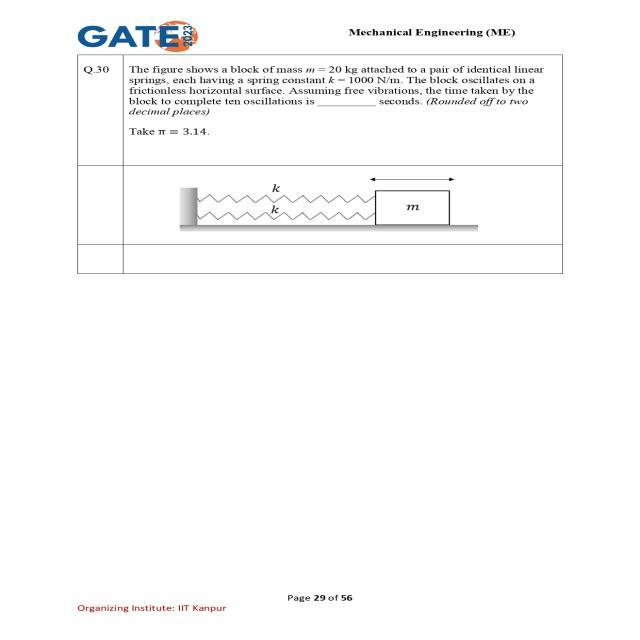Question_Answer_Block: (73, 53, 563, 274)
Question_Block: (74, 53, 564, 272)
Question_Paper_Area: (75, 53, 567, 275)
